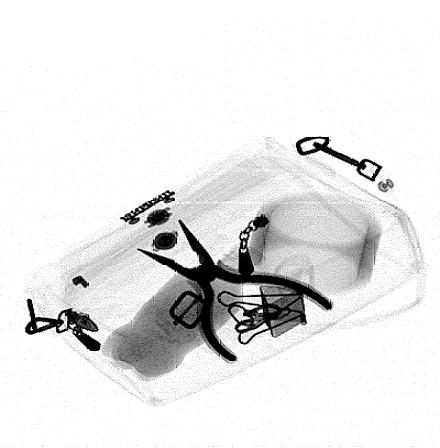Pliers: (134, 218, 334, 362)
